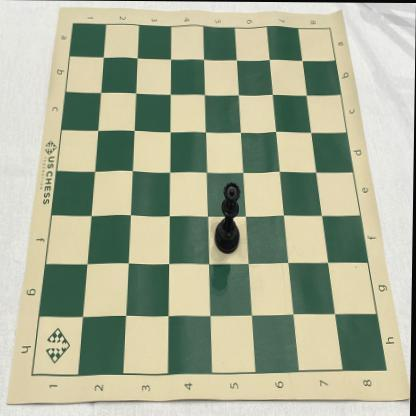black-queen: (215, 181, 241, 254)
